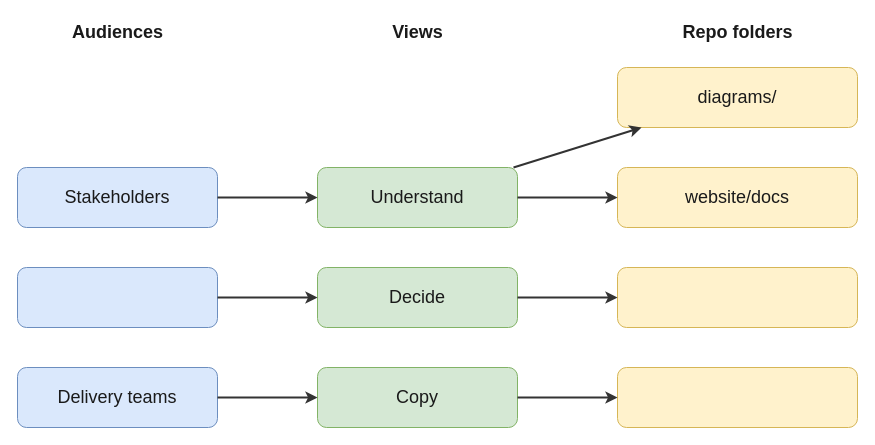
Image size: 875x445. Some labels were removed from this diagram. Here are the shapes that lost their labels. From the top down, the box of each, then its label:
(16, 266, 218, 328): Architects
(616, 266, 858, 328): website/docs/adr
(616, 366, 858, 428): reference/
